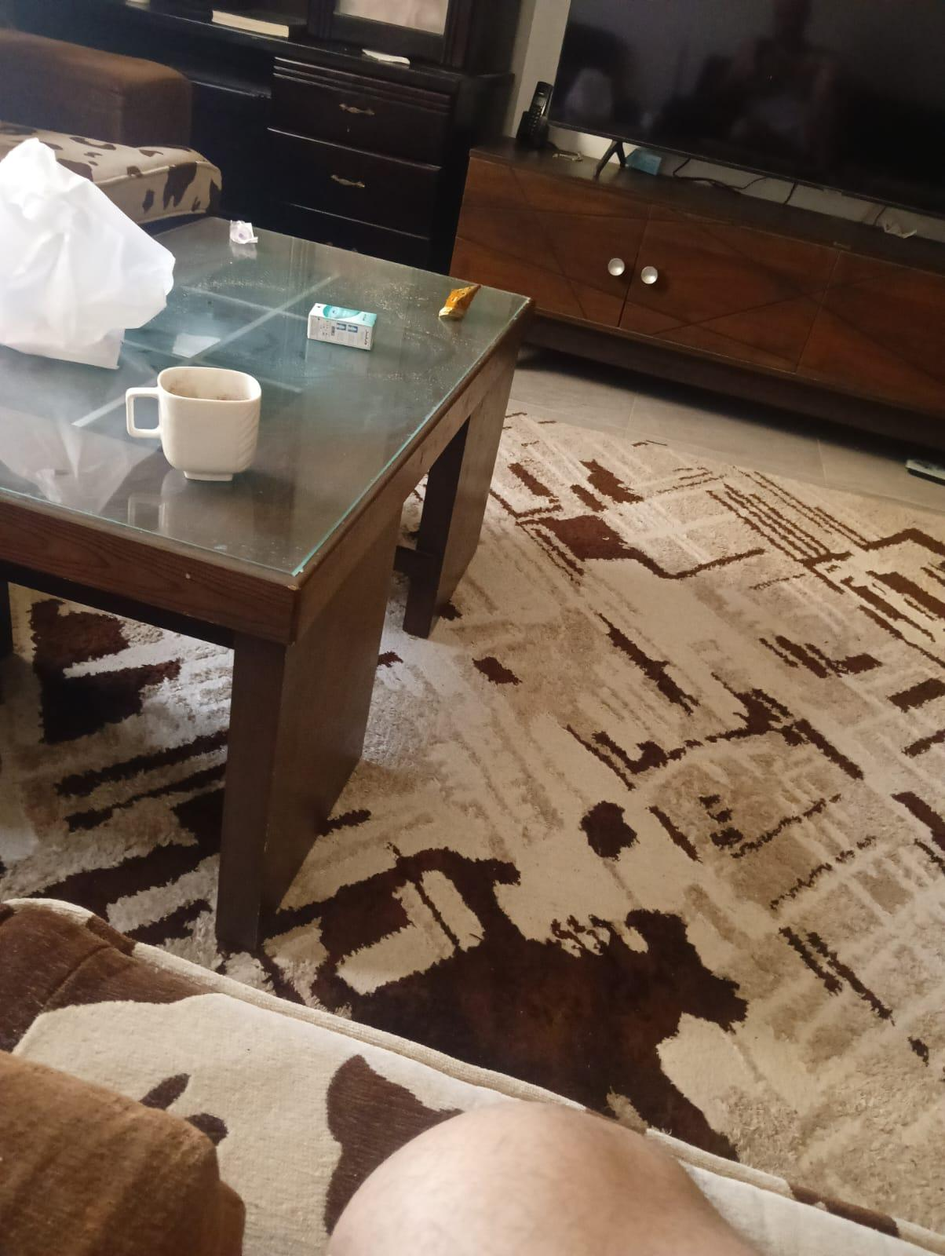cup: (126, 366, 260, 480)
